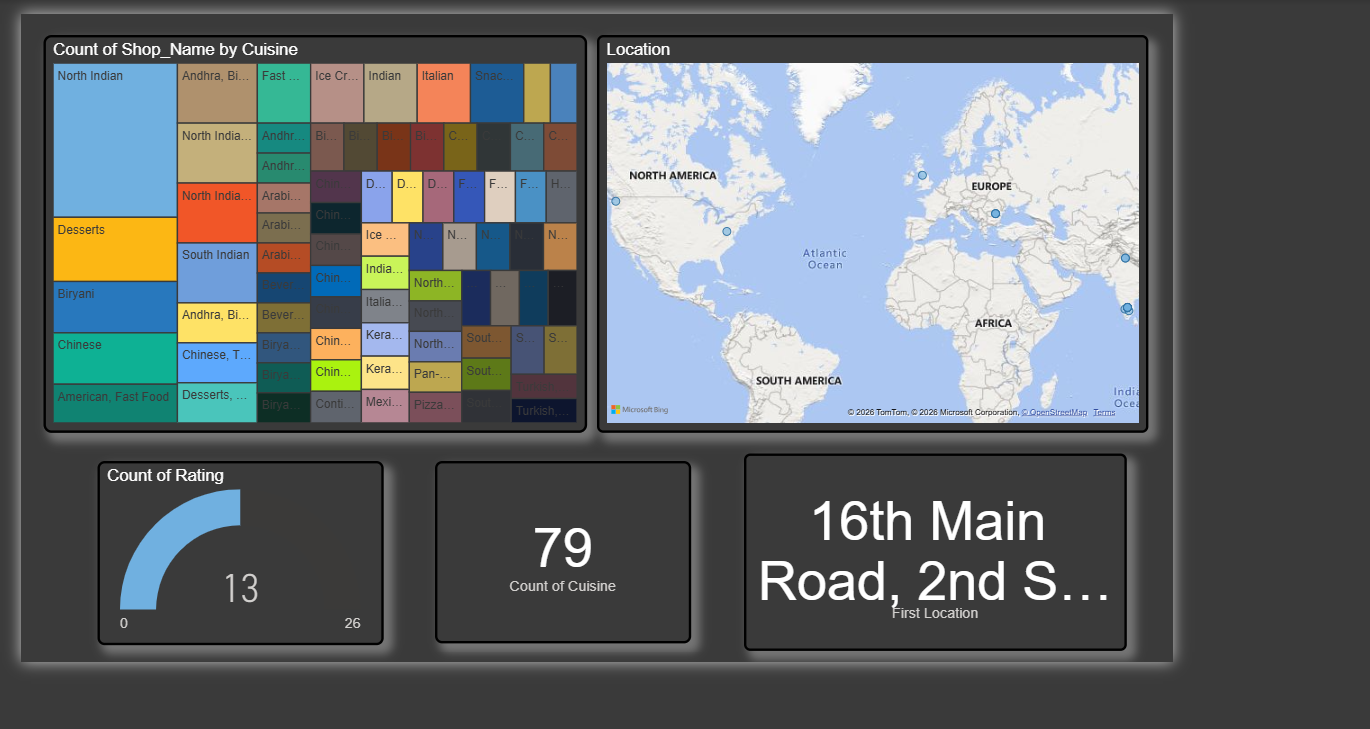

The page's visual inventory and layout, read from the dashboard file:
{"tool":"powerbi","page":{"name":"Page 3","canvas":[1280,720],"ordinal":2},"visuals":[{"type":"treemap","fields":{"Group":["Swiggy Bangalore Outlet Details.Cuisine"],"Values":["CountNonNull(Swiggy Bangalore Outlet Details.Shop_Name)"]},"box":[24.2,22.7,604.2,442.1],"z":0},{"type":"gauge","fields":{"Y":["Count(Swiggy Bangalore Outlet Details.Rating)"]},"box":[84.8,496.7,318,204.4],"z":1000},{"type":"map","fields":{"Category":["Swiggy Bangalore Outlet Details.Location"]},"box":[640,23.3,612.5,442.2],"z":2000},{"type":"card","fields":{"Values":["Min(Swiggy Bangalore Outlet Details.Location)"]},"box":[802.5,489.1,425.5,219.6],"z":3000},{"type":"card","fields":{"Values":["Count(Swiggy Bangalore Outlet Details.Cuisine)"]},"box":[460.3,496.7,284.7,202.9],"z":4000}]}

Visuals, with their boxes on the page's 1280x720 design canvas (x1, y1, x2, y2). These are canvas units, not pixel positions in the 1370x729 screenshot, which may show the page scaled, cropped or inside an application window:
treemap - Swiggy Bangalore Outlet Details.Cuisine x CountNonNull(Swiggy Bangalore Outlet Details.Shop_Name): detection(24, 23, 628, 465)
gauge - Count(Swiggy Bangalore Outlet Details.Rating): detection(85, 497, 403, 701)
map - Swiggy Bangalore Outlet Details.Location: detection(640, 23, 1252, 466)
card - Min(Swiggy Bangalore Outlet Details.Location): detection(802, 489, 1228, 709)
card - Count(Swiggy Bangalore Outlet Details.Cuisine): detection(460, 497, 745, 700)
